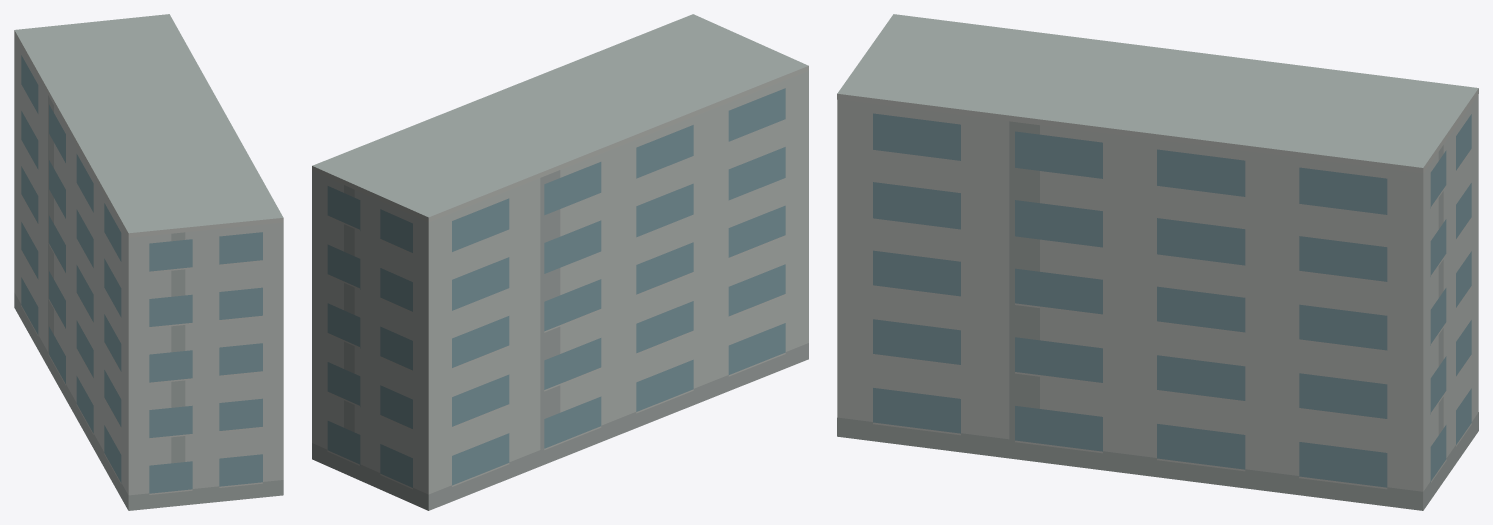
Rendered from survey-upis-32887888.glb.
3 renders of one model, left to right at view 1: azimuth 30°, elevation 25°; view 2: azimuth 150°, elevation 25°; view 3: azimuth 270°, elevation 25°, orthographic. The views are drawn at different scales.
Visible parts, largest first — view 1: survey-upis-32887888.tmp; view 2: survey-upis-32887888.tmp; view 3: survey-upis-32887888.tmp.
Boxes of the visible parts, <box> form: survey-upis-32887888.tmp: <box>14,14,283,510</box>; survey-upis-32887888.tmp: <box>312,14,808,510</box>; survey-upis-32887888.tmp: <box>837,14,1478,510</box>.
Bounding box in the file's own units: 13.78 × 14.3 × 24.26.
